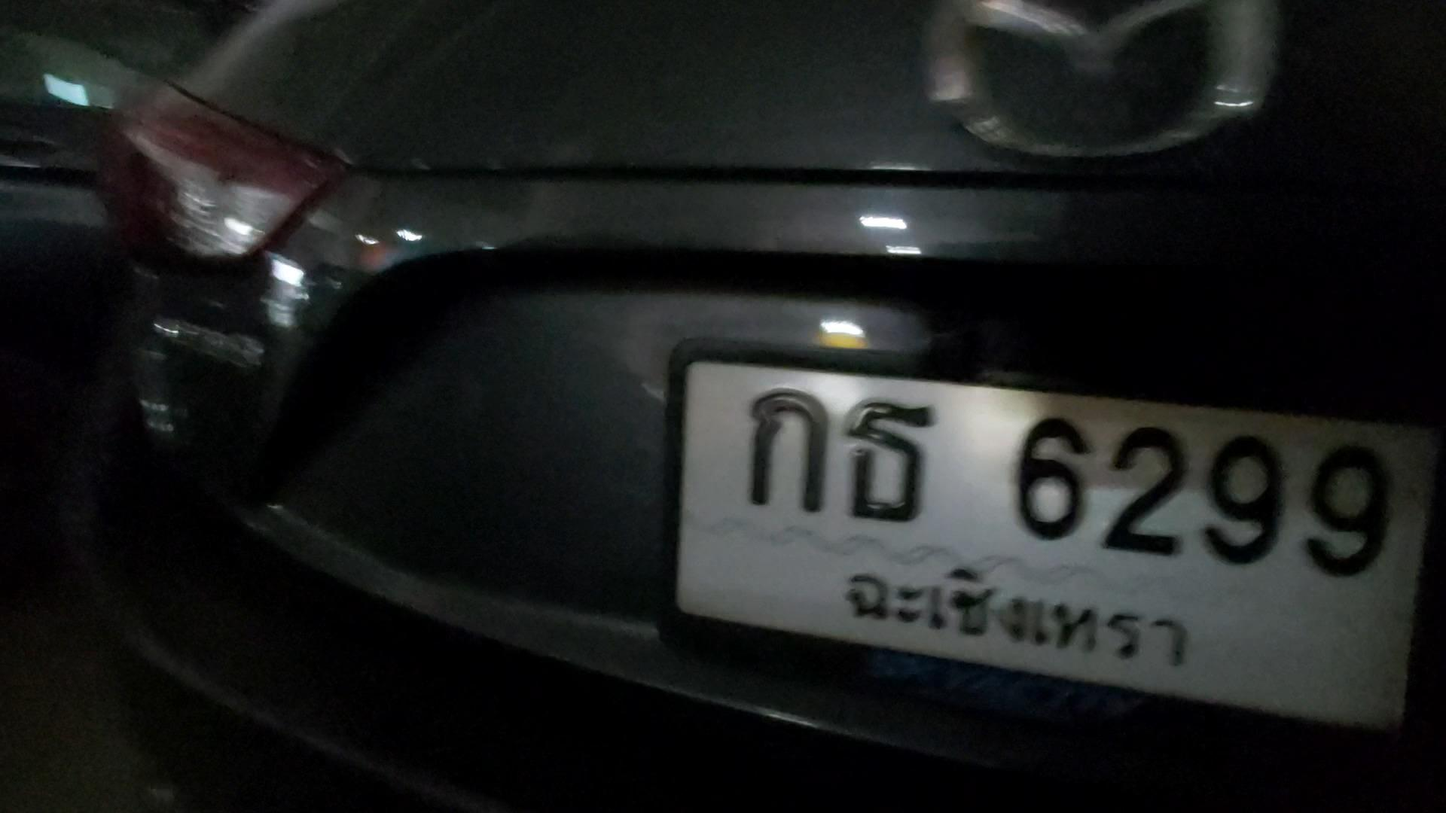license-plate: (670, 362, 1439, 738)
